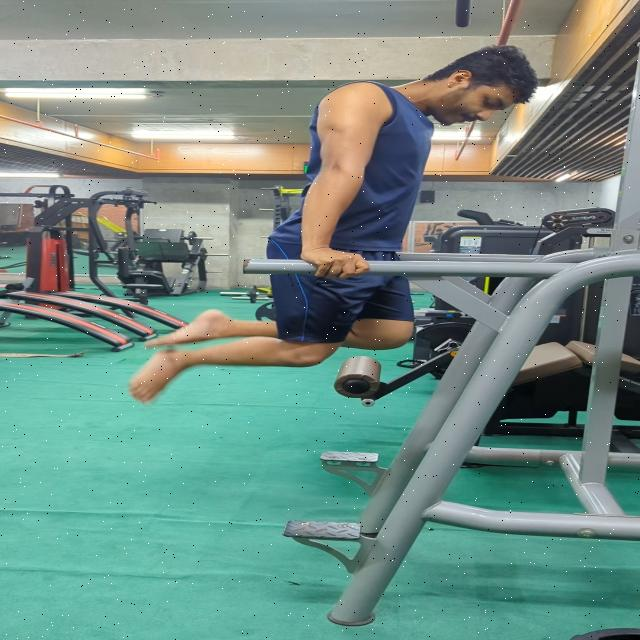Normal_Dips: (115, 36, 555, 410)
